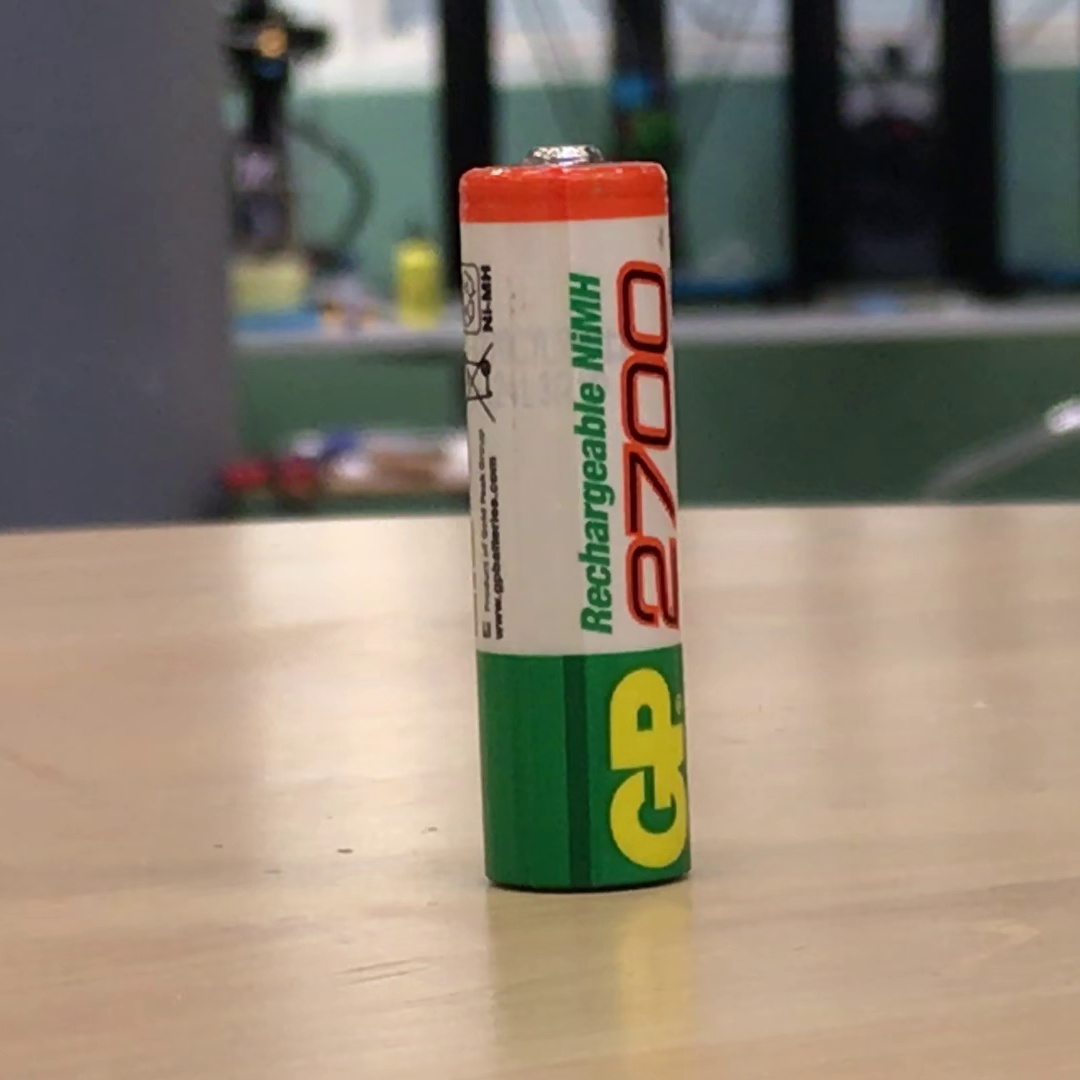keyword: (559, 263, 613, 382)
